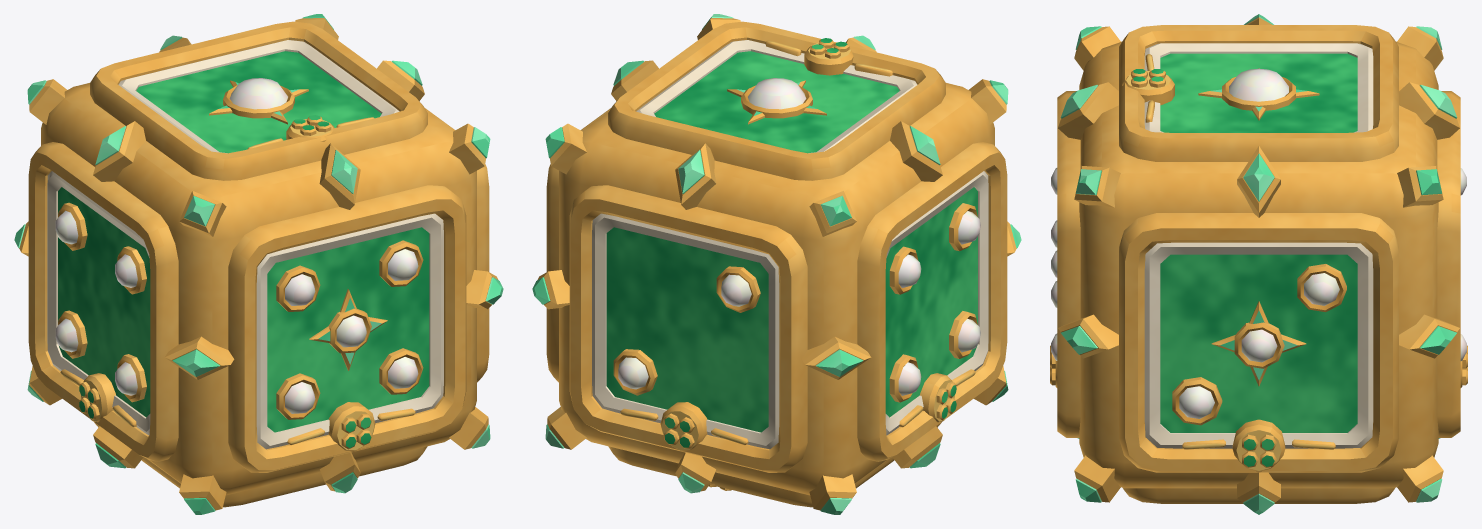
Rendered from LuckyDie_v002.fbx.
The picture shows the model from 3 angles, left to right: view 1: azimuth 30°, elevation 25°; view 2: azimuth 150°, elevation 25°; view 3: azimuth 270°, elevation 25°; orthographic projection. The views are drawn at different scales.
Visible parts, largest first — view 1: LuckyDie; view 2: LuckyDie; view 3: LuckyDie.
Part boxes in pixels (x1,y1,x2,y2): LuckyDie: [14, 14, 503, 514]; LuckyDie: [532, 14, 1021, 514]; LuckyDie: [1050, 14, 1467, 514].
Size of the model in its own units: 0.9936 by 0.9989 by 0.9936.
1 material, 1 textured.
